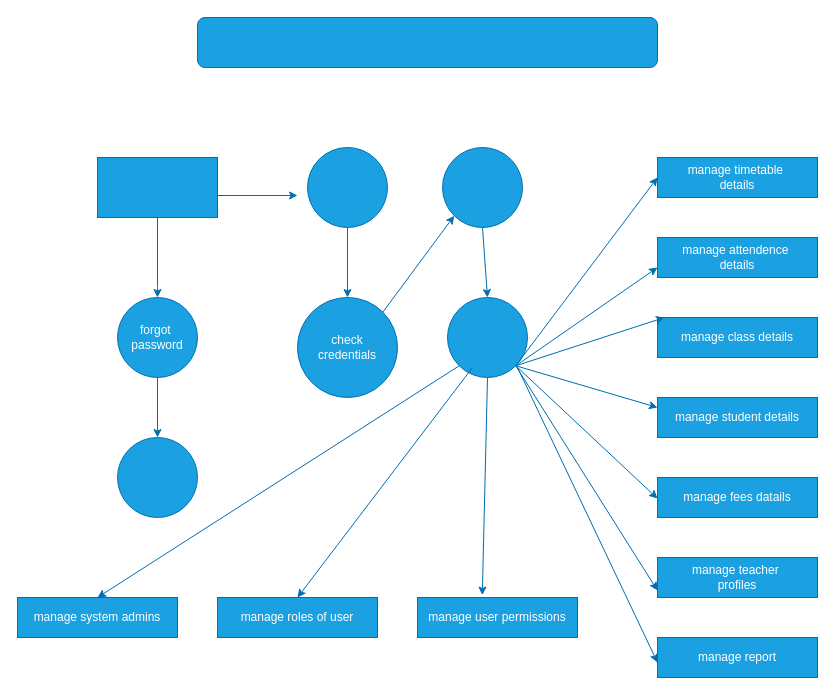
Some shapes in this 835 by 695 pixel diagram are drawn without their labels. The shapes that lost their labels are listed below. From the top down, each one's box as (x1, y1, x2, y2) in pixels, then its label:
(196, 16, 658, 68): student information details
(96, 156, 218, 218): Admin
(306, 146, 388, 228): login to system
(442, 146, 522, 228): check roles of acess
(446, 296, 528, 378): manage modules
(116, 436, 198, 518): send email to user
